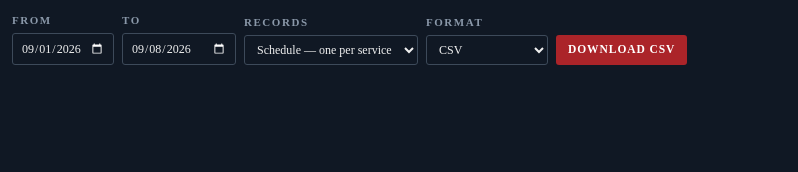
it: downloading › names the format on the button so the click is unambiguous
Expected: the button "Download CSV" is shown, [556,35,687,64]
Select "Fixed-width SIM" in the dropdown named "File format". click: (487, 50)
box: [426,34,548,64]
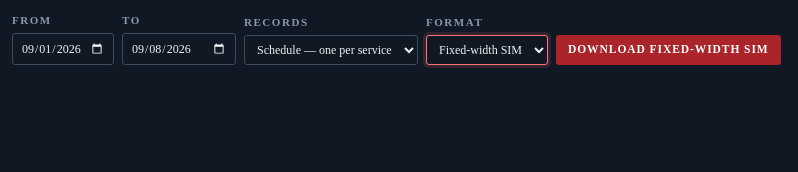
Result: the button "Download Fixed-width SIM" is shown at [556,35,781,64]
